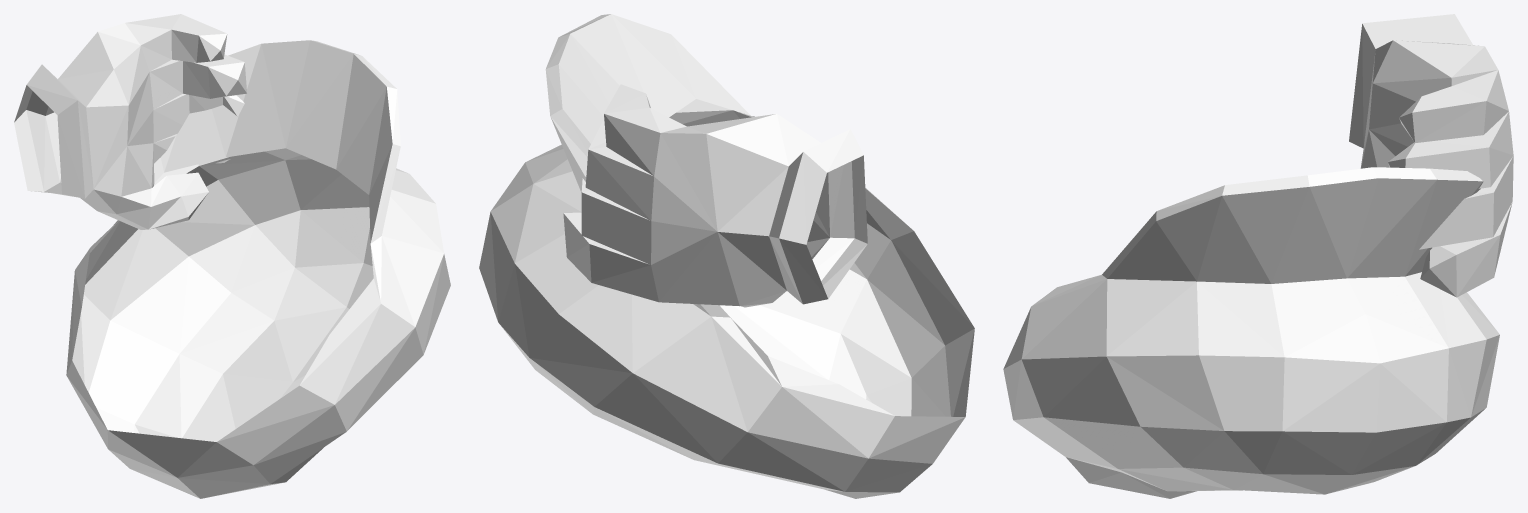
The model's file is ma_hnd4r.obj.
The picture shows the model from 3 angles, left to right: view 1: azimuth 30°, elevation 25°; view 2: azimuth 150°, elevation 25°; view 3: azimuth 270°, elevation 25°; orthographic projection. The views are drawn at different scales.
Parts seen in each view (by area): view 1: m0_1; view 2: m0_1; view 3: m0_1.
Boxes of the visible parts, box(x1,y1,x2,y2) form: m0_1: box(14, 14, 450, 498); m0_1: box(479, 14, 974, 498); m0_1: box(1003, 14, 1513, 498).
Bounding box in the file's own units: 57.08 × 57.56 × 58.74.
